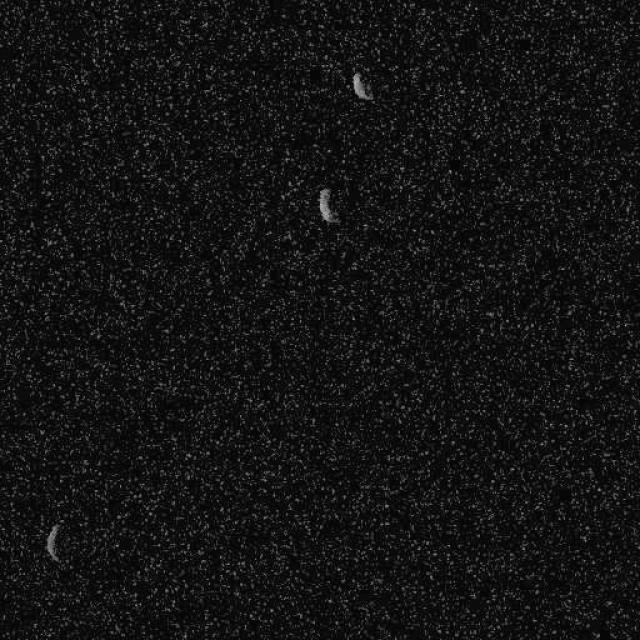D2: (316, 186, 340, 224), (350, 70, 374, 101), (45, 522, 61, 562)
